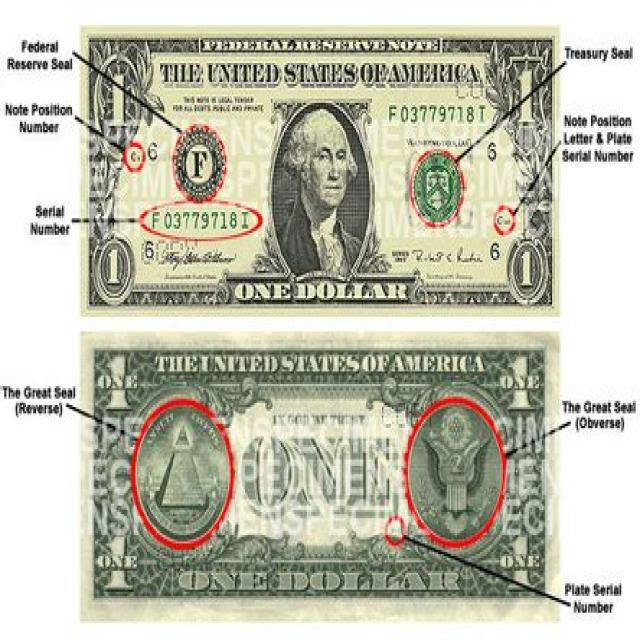One: (81, 26, 562, 319), (79, 334, 563, 621)
